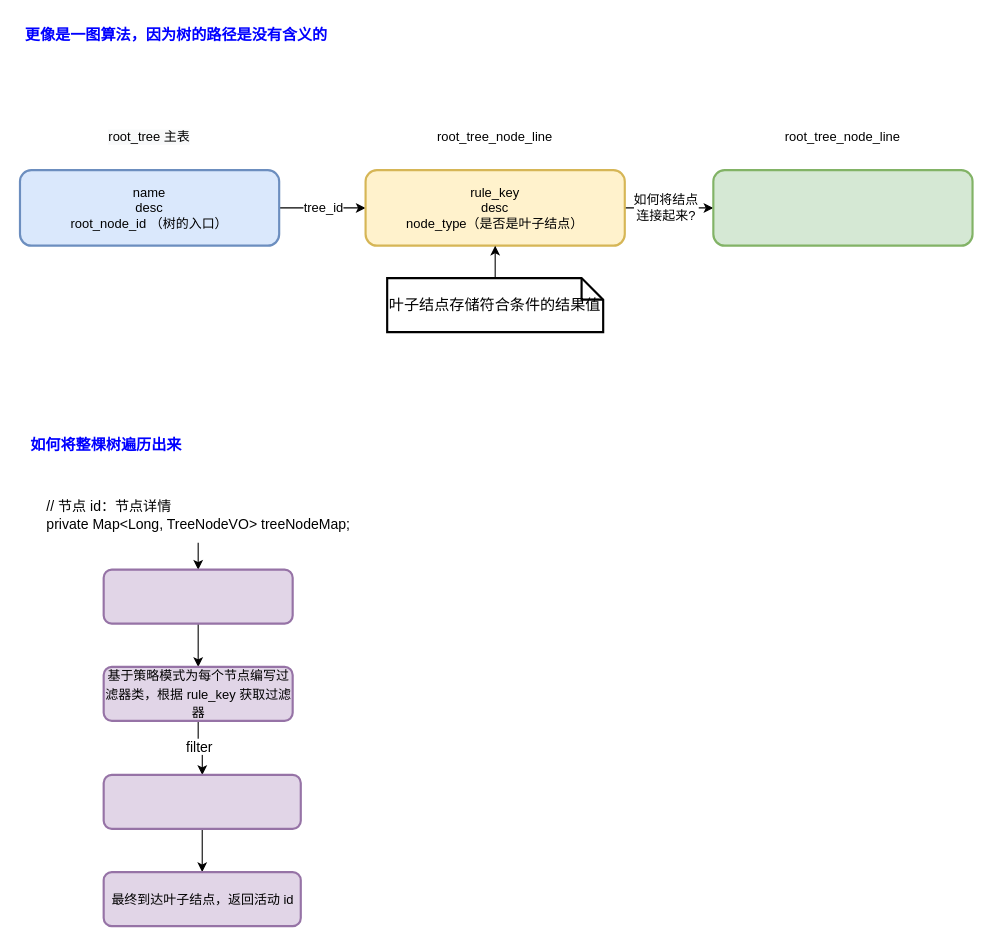
Image size: 991x945. Some labels were removed from this diagram. Here are the shapes that lost their labels. From the top down, the centre of each, then its label:
(842,207): node_id_from node_id_to rule_type（判断的条件） rule_value
(197,596): 循环非叶子节点，查找 node_id_from = key 的 Line 构建出条件表达式
(201,801): 在过滤器的 filter 方法中，根据 rule_type 判断是否能通过，通过根据 node_to_id 找到下一个节点
